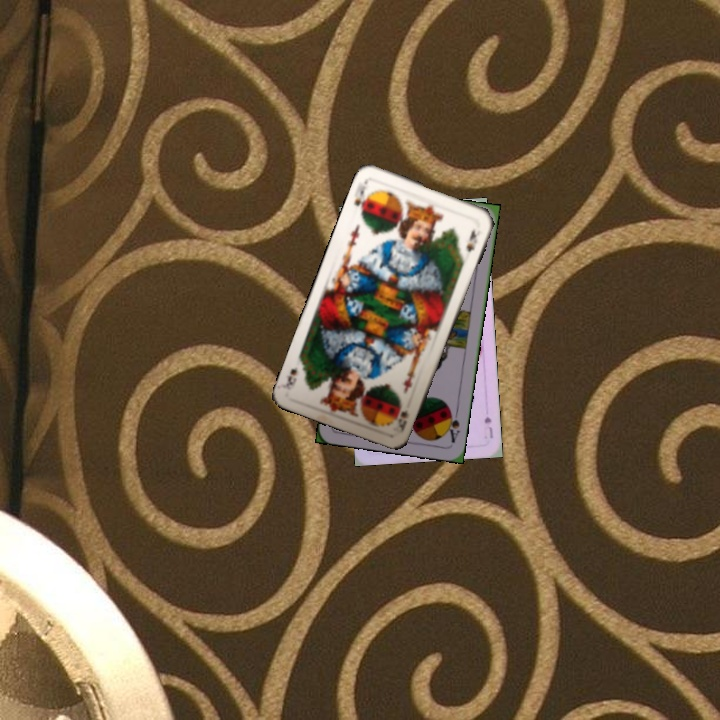SA: (442, 404, 463, 445)
SK: (350, 186, 372, 218), (390, 406, 411, 436)
SU: (480, 412, 496, 441)
